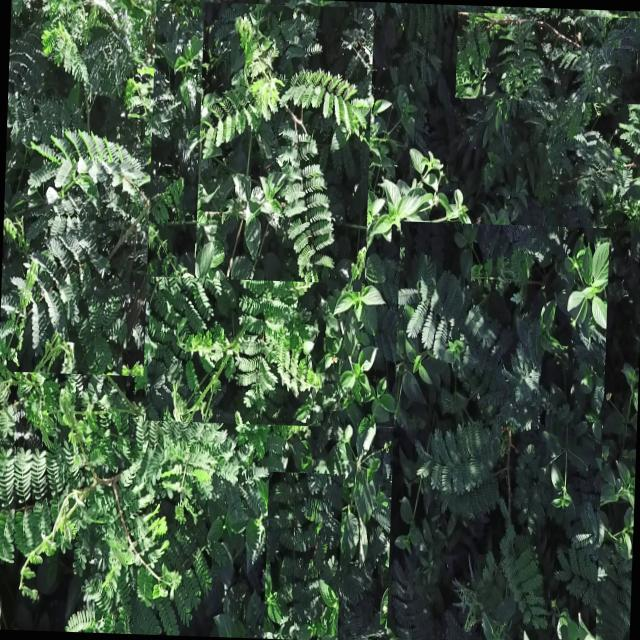Mysore-Thorn-Weed: (385, 221, 609, 640), (0, 402, 259, 638), (0, 0, 156, 376), (194, 2, 374, 292), (146, 276, 328, 426), (455, 11, 640, 104), (496, 115, 640, 223), (263, 471, 343, 640)
